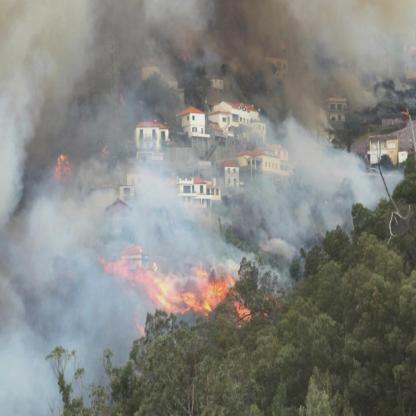Fire: (121, 254, 283, 343)
Smoke: (0, 9, 416, 253), (5, 262, 125, 416)
